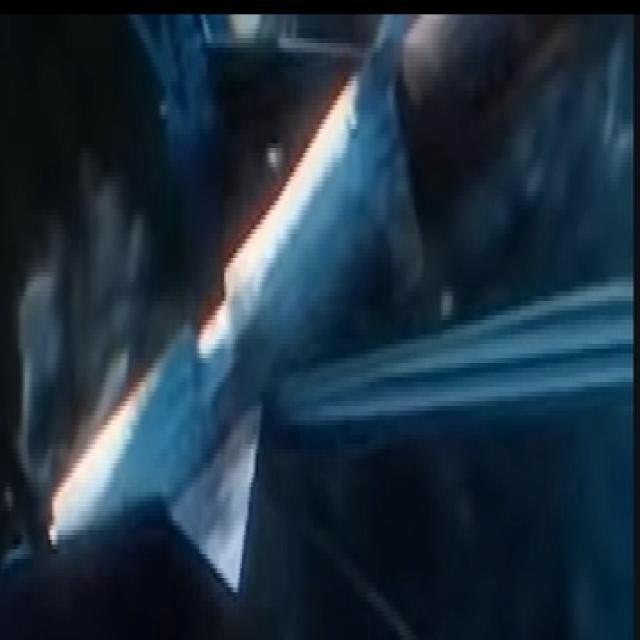large_debris: (43, 19, 640, 599)
